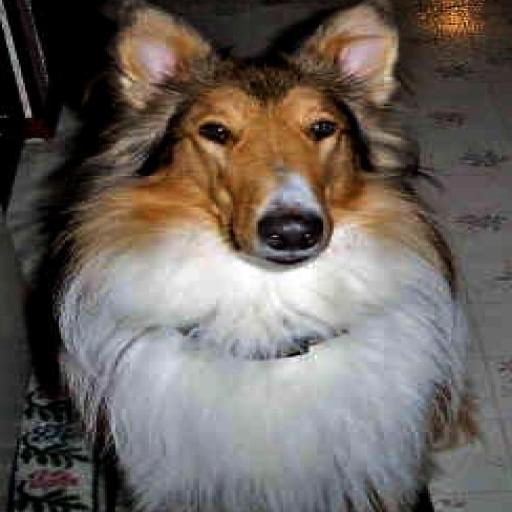dog_face: (92, 0, 405, 255)
